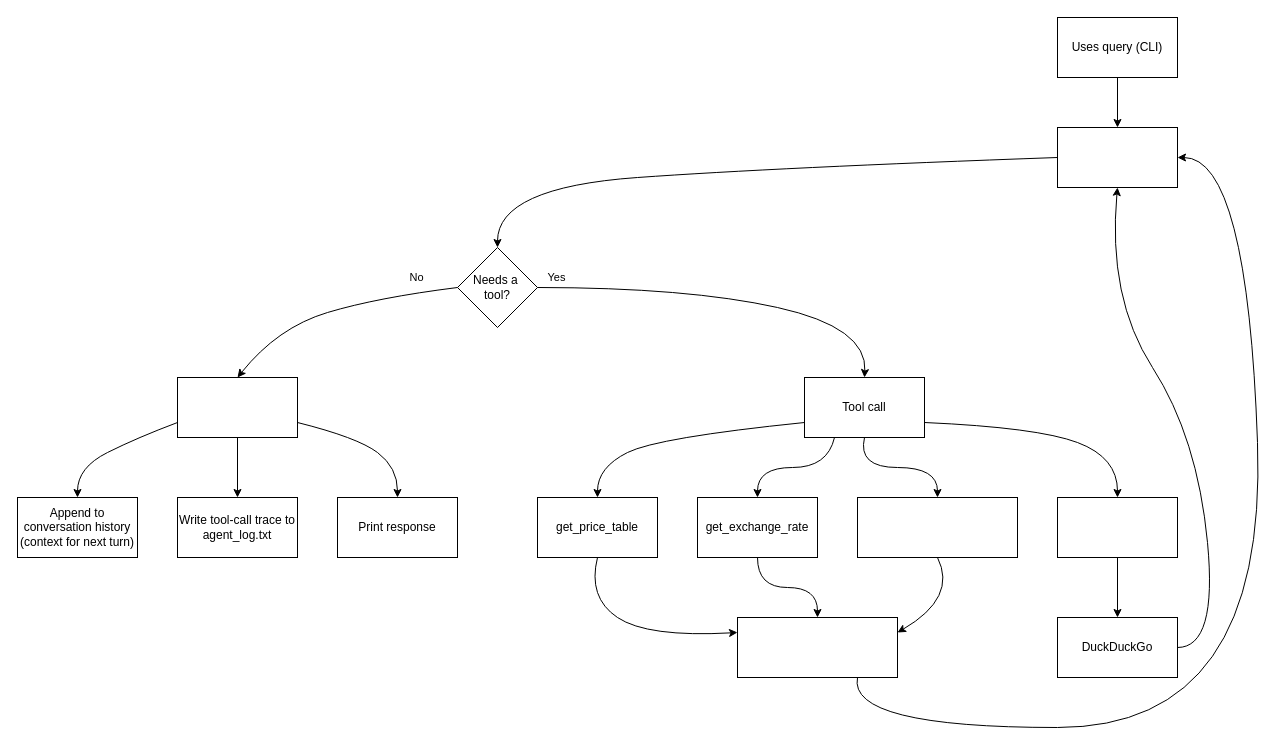
Image size: 1276x745. Some labels were removed from this diagram. The centre of each missing label's shape, as x and y in pixels:
"Agent (Gemini via LangChain create_agent)" goes at [1117,157].
"Final answer" goes at [237,407].
"Frankfurter API (FX, daily) / yfinance (IHSG, per-minute)" goes at [817,647].
"get_average_exchange_rate" goes at [937,527].
"web_search(fallback)" goes at [1117,527].
